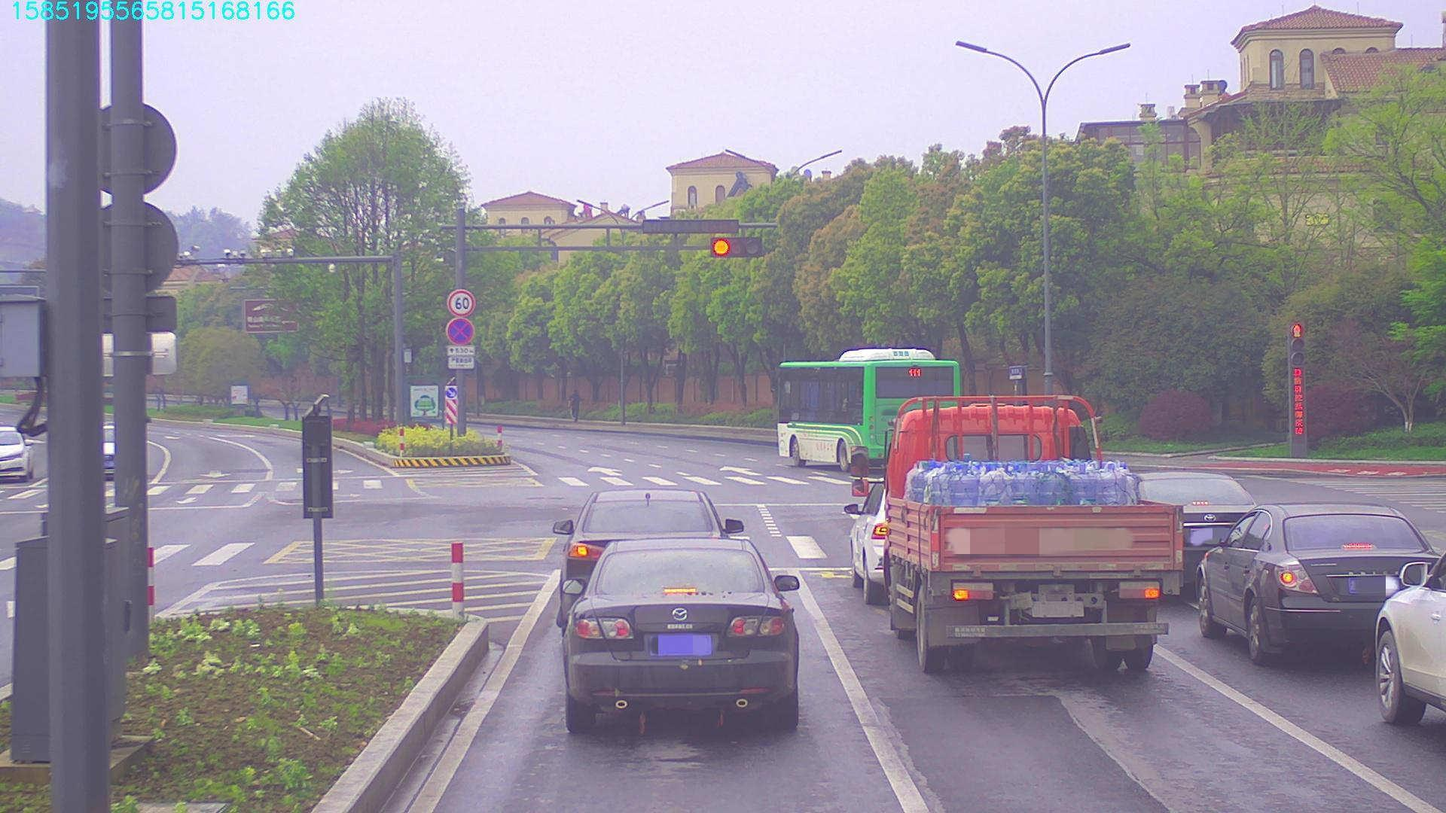red: (709, 238, 758, 254)
